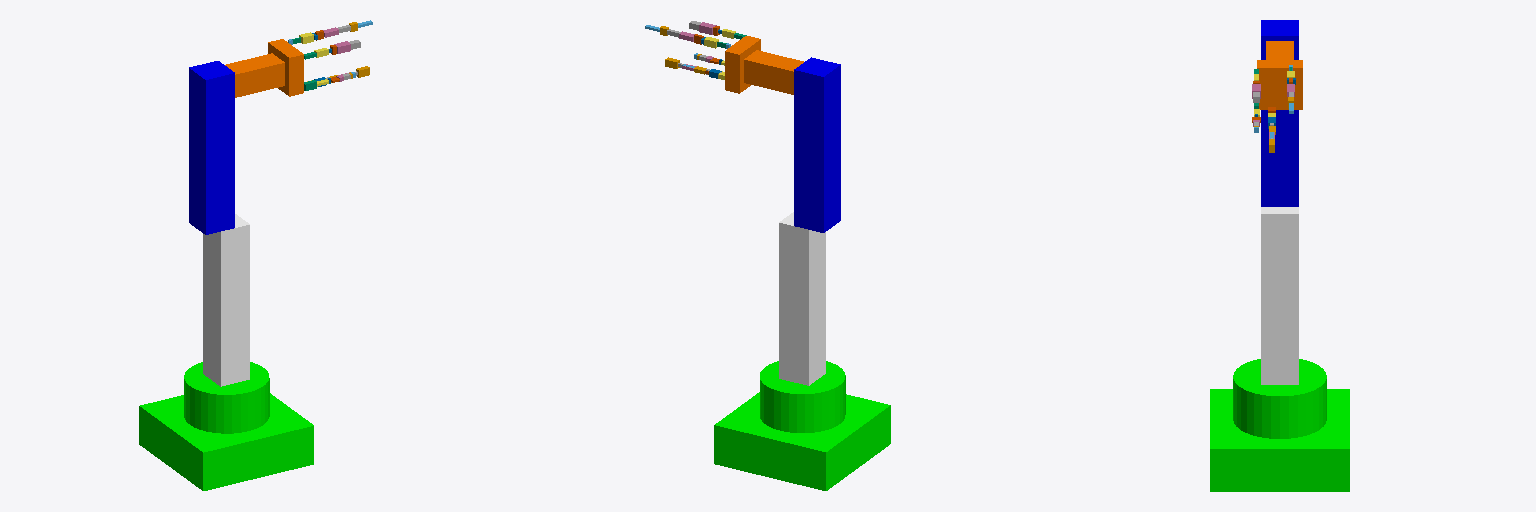
--- Facts derived from the render (not from the file) ---
3 views of the same robot in one strip: view 1: azimuth 30°, elevation 25°; view 2: azimuth 150°, elevation 25°; view 3: azimuth 270°, elevation 25° (orthographic).
Model robot with 40 links and 39 joints (36 revolute, 1 continuous, 2 fixed), rooted at base_link, posed every joint at zero.
Links seen in each view (by area): view 1: base_link, arm_link, support_link, wrist_link, palm_link; view 2: base_link, arm_link, support_link, wrist_link, palm_link; view 3: base_link, support_link, arm_link, palm_link, wrist_link.
Link boxes in pixels (bbox=[...]): base_link: bbox=[139, 362, 313, 490]; arm_link: bbox=[189, 61, 234, 234]; support_link: bbox=[203, 214, 249, 386]; wrist_link: bbox=[225, 53, 284, 97]; palm_link: bbox=[268, 39, 303, 96]; base_link: bbox=[714, 361, 890, 490]; arm_link: bbox=[794, 57, 840, 232]; support_link: bbox=[779, 212, 825, 385]; wrist_link: bbox=[744, 50, 803, 94]; palm_link: bbox=[725, 36, 760, 93]; base_link: bbox=[1210, 359, 1349, 491]; support_link: bbox=[1261, 207, 1298, 384]; arm_link: bbox=[1261, 20, 1298, 206]; palm_link: bbox=[1257, 60, 1302, 109]; wrist_link: bbox=[1266, 41, 1293, 59].
Size in the robot's own frame: 1.39 by 0.75 by 2.55 metres.
Geometry: primitives only (box / cylinder / sphere), no mesh files.

The robot description file, URDF, robot "robot":
<?xml version='1.0' encoding='utf-8'?>
<robot name="robot">
  <link name="base_link">
    <visual>
      <origin xyz="0 0 0.125" rpy="0 0 0" />
      <geometry>
        <box size="0.75 0.75 0.25" />
      </geometry>
      <material name="green" />
    </visual>
    <visual>
      <origin xyz="0 0 0.375" rpy="0 0 0" />
      <geometry>
        <cylinder length="0.25" radius="0.25" />
      </geometry>
      <material name="green">
        <color rgba="0 1 0 1" />
      </material>
    </visual>
    <collision>
      <geometry>
        <box size="0.75 0.75 0.5" />
      </geometry>
    </collision>
    <inertial>
      <mass value="0.5" />
      <inertia ixx="0.034" ixy="0.0" ixz="0.0" iyy="0.034" iyz="0.0" izz="0.034" />
    </inertial>
  </link>
  <link name="support_link">
    <visual>
      <origin xyz="0 0 0.5" rpy="0 0 0" />
      <geometry>
        <box size="0.2 0.2 1" />
      </geometry>
      <material name="white">
        <color rgba="1 1 1 1" />
      </material>
    </visual>
    <collision>
      <geometry>
        <box size="0.2 0.2 1" />
      </geometry>
    </collision>
    <inertial>
      <mass value="0.1" />
      <inertia ixx="0.01" ixy="0.0" ixz="0.0" iyy="0.01" iyz="0.0" izz="0.01" />
    </inertial>
  </link>
  <joint name="support_joint" type="continuous">
    <origin xyz="0 0 0.5" rpy="0 0 0" />
    <parent link="base_link" />
    <child link="support_link" />
    <axis xyz="0 0 1" />
  </joint>
  <link name="arm_link">
    <visual>
      <origin xyz="0 0 0.5" rpy="0 0 0" />
      <geometry>
        <box size="0.2 0.2 1" />
      </geometry>
      <material name="blue">
        <color rgba="0 0 1 1" />
      </material>
    </visual>
    <collision>
      <geometry>
        <box size="0.2 0.2 1" />
      </geometry>
    </collision>
    <inertial>
      <mass value="0.1" />
      <inertia ixx="0.01" ixy="0.0" ixz="0.0" iyy="0.01" iyz="0.0" izz="0.01" />
    </inertial>
  </link>
  <joint name="arm_joint" type="revolute">
    <origin xyz="-0.1 0 1" rpy="0 0 0" />
    <parent link="support_link" />
    <child link="arm_link" />
    <axis xyz="0 1 0" />
    <limit lower="-3.14" upper="3.14" effort="1.0" velocity="1.0" />
  </joint>
  <link name="wrist_link">
    <visual>
      <origin xyz="0 0 0.25" rpy="0 0 0" />
      <geometry>
        <box size="0.15 0.15 0.5" />
      </geometry>
      <material name="orange">
        <color rgba="1 0.5 0 1" />
      </material>
    </visual>
    <collision>
      <geometry>
        <box size="0.15 0.15 0.5" />
      </geometry>
    </collision>
    <inertial>
      <mass value="0.1" />
      <inertia ixx="0.01" ixy="0.0" ixz="0.0" iyy="0.01" iyz="0.0" izz="0.01" />
    </inertial>
  </link>
  <joint name="wrist_joint" type="fixed">
    <origin xyz="0 0 0.9" rpy="0 1.571 0" />
    <parent link="arm_link" />
    <child link="wrist_link" />
  </joint>
  <link name="palm_link">
    <visual>
      <origin xyz="0 0 0.05" rpy="0 0 0" />
      <geometry>
        <box size="0.25 0.25 0.1" />
      </geometry>
      <material name="orange" />
    </visual>
    <collision>
      <geometry>
        <box size="0.25 0.25 0.1" />
      </geometry>
    </collision>
    <inertial>
      <mass value="0.1" />
      <inertia ixx="0.01" ixy="0.0" ixz="0.0" iyy="0.01" iyz="0.0" izz="0.01" />
    </inertial>
  </link>
  <joint name="palm_joint" type="fixed">
    <origin xyz="0 0 0.45" rpy="0 0 0" />
    <parent link="wrist_link" />
    <child link="palm_link" />
  </joint>
  <link name="finger_link_0_0">
    <visual>
      <origin xyz="0 0 0.0295" rpy="0 0 0" />
      <geometry>
        <box size="0.042 0.042 0.059" />
      </geometry>
    </visual>
    <collision>
      <geometry>
        <box size="0.042 0.042 0.059" />
      </geometry>
    </collision>
    <inertial>
      <mass value="0.031" />
      <inertia ixx="0.0" iyy="0.0" izz="0.0" ixy="0" ixz="0" iyz="0" />
    </inertial>
  </link>
  <joint name="finger_joint_palm_link_to_finger_link_0_0" type="revolute">
    <origin xyz="0.125 -0.042 0.1" rpy="0 0 0" />
    <parent link="palm_link" />
    <child link="finger_link_0_0" />
    <axis xyz="0.0 1.0 0.0" />
    <limit lower="-3.142" upper="3.142" effort="10" velocity="10" />
  </joint>
  <link name="finger_link_0_1">
    <visual>
      <origin xyz="0 0 0.031" rpy="0 0 0" />
      <geometry>
        <box size="0.017 0.038 0.062" />
      </geometry>
    </visual>
    <collision>
      <geometry>
        <box size="0.017 0.038 0.062" />
      </geometry>
    </collision>
    <inertial>
      <mass value="0.012" />
      <inertia ixx="0.0" iyy="0.0" izz="0.0" ixy="0" ixz="0" iyz="0" />
    </inertial>
  </link>
  <joint name="finger_joint_finger_link_0_0_to_finger_link_0_1" type="revolute">
    <origin xyz="0.0 0.0 0.059" rpy="0 0 0" />
    <parent link="finger_link_0_0" />
    <child link="finger_link_0_1" />
    <axis xyz="0.0 1.0 0.0" />
    <limit lower="-3.142" upper="3.142" effort="10" velocity="10" />
  </joint>
  <link name="finger_link_0_2">
    <visual>
      <origin xyz="0 0 0.049" rpy="0 0 0" />
      <geometry>
        <box size="0.03 0.018 0.098" />
      </geometry>
    </visual>
    <collision>
      <geometry>
        <box size="0.03 0.018 0.098" />
      </geometry>
    </collision>
    <inertial>
      <mass value="0.016" />
      <inertia ixx="0.0" iyy="0.0" izz="0.0" ixy="0" ixz="0" iyz="0" />
    </inertial>
  </link>
  <joint name="finger_joint_finger_link_0_1_to_finger_link_0_2" type="revolute">
    <origin xyz="0.0 0.0 0.062" rpy="0 0 0" />
    <parent link="finger_link_0_1" />
    <child link="finger_link_0_2" />
    <axis xyz="1.0 0.0 0.0" />
    <limit lower="-3.142" upper="3.142" effort="10" velocity="10" />
  </joint>
  <link name="finger_link_0_3">
    <visual>
      <origin xyz="0 0 0.036" rpy="0 0 0" />
      <geometry>
        <box size="0.023 0.038 0.072" />
      </geometry>
    </visual>
    <collision>
      <geometry>
        <box size="0.023 0.038 0.072" />
      </geometry>
    </collision>
    <inertial>
      <mass value="0.019" />
      <inertia ixx="0.0" iyy="0.0" izz="0.0" ixy="0" ixz="0" iyz="0" />
    </inertial>
  </link>
  <joint name="finger_joint_finger_link_0_2_to_finger_link_0_3" type="revolute">
    <origin xyz="0.0 0.0 0.098" rpy="0 0 0" />
    <parent link="finger_link_0_2" />
    <child link="finger_link_0_3" />
    <axis xyz="1.0 0.0 0.0" />
    <limit lower="-3.142" upper="3.142" effort="10" velocity="10" />
  </joint>
  <link name="finger_link_0_4">
    <visual>
      <origin xyz="0 0 0.0425" rpy="0 0 0" />
      <geometry>
        <box size="0.018 0.022 0.085" />
      </geometry>
    </visual>
    <collision>
      <geometry>
        <box size="0.018 0.022 0.085" />
      </geometry>
    </collision>
    <inertial>
      <mass value="0.01" />
      <inertia ixx="0.0" iyy="0.0" izz="0.0" ixy="0" ixz="0" iyz="0" />
    </inertial>
  </link>
  <joint name="finger_joint_finger_link_0_3_to_finger_link_0_4" type="revolute">
    <origin xyz="0.0 0.0 0.072" rpy="0 0 0" />
    <parent link="finger_link_0_3" />
    <child link="finger_link_0_4" />
    <axis xyz="1.0 0.0 0.0" />
    <limit lower="-3.142" upper="3.142" effort="10" velocity="10" />
  </joint>
  <link name="finger_link_1_0">
    <visual>
      <origin xyz="0 0 0.04" rpy="0 0 0" />
      <geometry>
        <box size="0.044 0.03 0.08" />
      </geometry>
    </visual>
    <collision>
      <geometry>
        <box size="0.044 0.03 0.08" />
      </geometry>
    </collision>
    <inertial>
      <mass value="0.032" />
      <inertia ixx="0.0" iyy="0.0" izz="0.0" ixy="0" ixz="0" iyz="0" />
    </inertial>
  </link>
  <joint name="finger_joint_palm_link_to_finger_link_1_0" type="revolute">
    <origin xyz="0.086 -0.125 0.1" rpy="0 0 0" />
    <parent link="palm_link" />
    <child link="finger_link_1_0" />
    <axis xyz="1.0 0.0 0.0" />
    <limit lower="-3.142" upper="3.142" effort="10" velocity="10" />
  </joint>
  <link name="finger_link_1_1">
    <visual>
      <origin xyz="0 0 0.0405" rpy="0 0 0" />
      <geometry>
        <box size="0.016 0.032 0.081" />
      </geometry>
    </visual>
    <collision>
      <geometry>
        <box size="0.016 0.032 0.081" />
      </geometry>
    </collision>
    <inertial>
      <mass value="0.012" />
      <inertia ixx="0.0" iyy="0.0" izz="0.0" ixy="0" ixz="0" iyz="0" />
    </inertial>
  </link>
  <joint name="finger_joint_finger_link_1_0_to_finger_link_1_1" type="revolute">
    <origin xyz="0.0 0.0 0.08" rpy="0 0 0" />
    <parent link="finger_link_1_0" />
    <child link="finger_link_1_1" />
    <axis xyz="0.0 1.0 0.0" />
    <limit lower="-3.142" upper="3.142" effort="10" velocity="10" />
  </joint>
  <link name="finger_link_1_2">
    <visual>
      <origin xyz="0 0 0.0085" rpy="0 0 0" />
      <geometry>
        <box size="0.031 0.011 0.017" />
      </geometry>
    </visual>
    <collision>
      <geometry>
        <box size="0.031 0.011 0.017" />
      </geometry>
    </collision>
    <inertial>
      <mass value="0.002" />
      <inertia ixx="0.0" iyy="0.0" izz="0.0" ixy="0" ixz="0" iyz="0" />
    </inertial>
  </link>
  <joint name="finger_joint_finger_link_1_1_to_finger_link_1_2" type="revolute">
    <origin xyz="0.0 0.0 0.081" rpy="0 0 0" />
    <parent link="finger_link_1_1" />
    <child link="finger_link_1_2" />
    <axis xyz="0.0 1.0 0.0" />
    <limit lower="-3.142" upper="3.142" effort="10" velocity="10" />
  </joint>
  <link name="finger_link_1_3">
    <visual>
      <origin xyz="0 0 0.025" rpy="0 0 0" />
      <geometry>
        <box size="0.012 0.046 0.05" />
      </geometry>
    </visual>
    <collision>
      <geometry>
        <box size="0.012 0.046 0.05" />
      </geometry>
    </collision>
    <inertial>
      <mass value="0.008" />
      <inertia ixx="0.0" iyy="0.0" izz="0.0" ixy="0" ixz="0" iyz="0" />
    </inertial>
  </link>
  <joint name="finger_joint_finger_link_1_2_to_finger_link_1_3" type="revolute">
    <origin xyz="0.0 0.0 0.017" rpy="0 0 0" />
    <parent link="finger_link_1_2" />
    <child link="finger_link_1_3" />
    <axis xyz="0.0 1.0 0.0" />
    <limit lower="-3.142" upper="3.142" effort="10" velocity="10" />
  </joint>
  <link name="finger_link_1_4">
    <visual>
      <origin xyz="0 0 0.0165" rpy="0 0 0" />
      <geometry>
        <box size="0.025 0.037 0.033" />
      </geometry>
    </visual>
    <collision>
      <geometry>
        <box size="0.025 0.037 0.033" />
      </geometry>
    </collision>
    <inertial>
      <mass value="0.009" />
      <inertia ixx="0.0" iyy="0.0" izz="0.0" ixy="0" ixz="0" iyz="0" />
    </inertial>
  </link>
  <joint name="finger_joint_finger_link_1_3_to_finger_link_1_4" type="revolute">
    <origin xyz="0.0 0.0 0.05" rpy="0 0 0" />
    <parent link="finger_link_1_3" />
    <child link="finger_link_1_4" />
    <axis xyz="0.0 1.0 0.0" />
    <limit lower="-3.142" upper="3.142" effort="10" velocity="10" />
  </joint>
  <link name="finger_link_1_5">
    <visual>
      <origin xyz="0 0 0.0225" rpy="0 0 0" />
      <geometry>
        <box size="0.024 0.029 0.045" />
      </geometry>
    </visual>
    <collision>
      <geometry>
        <box size="0.024 0.029 0.045" />
      </geometry>
    </collision>
    <inertial>
      <mass value="0.009" />
      <inertia ixx="0.0" iyy="0.0" izz="0.0" ixy="0" ixz="0" iyz="0" />
    </inertial>
  </link>
  <joint name="finger_joint_finger_link_1_4_to_finger_link_1_5" type="revolute">
    <origin xyz="0.0 0.0 0.033" rpy="0 0 0" />
    <parent link="finger_link_1_4" />
    <child link="finger_link_1_5" />
    <axis xyz="1.0 0.0 0.0" />
    <limit lower="-3.142" upper="3.142" effort="10" velocity="10" />
  </joint>
  <link name="finger_link_1_6">
    <visual>
      <origin xyz="0 0 0.008" rpy="0 0 0" />
      <geometry>
        <box size="0.028 0.03 0.016" />
      </geometry>
    </visual>
    <collision>
      <geometry>
        <box size="0.028 0.03 0.016" />
      </geometry>
    </collision>
    <inertial>
      <mass value="0.004" />
      <inertia ixx="0.0" iyy="0.0" izz="0.0" ixy="0" ixz="0" iyz="0" />
    </inertial>
  </link>
  <joint name="finger_joint_finger_link_1_5_to_finger_link_1_6" type="revolute">
    <origin xyz="0.0 0.0 0.045" rpy="0 0 0" />
    <parent link="finger_link_1_5" />
    <child link="finger_link_1_6" />
    <axis xyz="0.0 1.0 0.0" />
    <limit lower="-3.142" upper="3.142" effort="10" velocity="10" />
  </joint>
  <link name="finger_link_1_7">
    <visual>
      <origin xyz="0 0 0.0095" rpy="0 0 0" />
      <geometry>
        <box size="0.028 0.025 0.019" />
      </geometry>
    </visual>
    <collision>
      <geometry>
        <box size="0.028 0.025 0.019" />
      </geometry>
    </collision>
    <inertial>
      <mass value="0.004" />
      <inertia ixx="0.0" iyy="0.0" izz="0.0" ixy="0" ixz="0" iyz="0" />
    </inertial>
  </link>
  <joint name="finger_joint_finger_link_1_6_to_finger_link_1_7" type="revolute">
    <origin xyz="0.0 0.0 0.016" rpy="0 0 0" />
    <parent link="finger_link_1_6" />
    <child link="finger_link_1_7" />
    <axis xyz="0.0 1.0 0.0" />
    <limit lower="-3.142" upper="3.142" effort="10" velocity="10" />
  </joint>
  <link name="finger_link_2_0">
    <visual>
      <origin xyz="0 0 0.0155" rpy="0 0 0" />
      <geometry>
        <box size="0.035 0.027 0.031" />
      </geometry>
    </visual>
    <collision>
      <geometry>
        <box size="0.035 0.027 0.031" />
      </geometry>
    </collision>
    <inertial>
      <mass value="0.009" />
      <inertia ixx="0.0" iyy="0.0" izz="0.0" ixy="0" ixz="0" iyz="0" />
    </inertial>
  </link>
  <joint name="finger_joint_palm_link_to_finger_link_2_0" type="revolute">
    <origin xyz="0.125 -0.043 0.1" rpy="0 0 0" />
    <parent link="palm_link" />
    <child link="finger_link_2_0" />
    <axis xyz="1.0 0.0 0.0" />
    <limit lower="-3.142" upper="3.142" effort="10" velocity="10" />
  </joint>
  <link name="finger_link_2_1">
    <visual>
      <origin xyz="0 0 0.0485" rpy="0 0 0" />
      <geometry>
        <box size="0.029 0.047 0.097" />
      </geometry>
    </visual>
    <collision>
      <geometry>
        <box size="0.029 0.047 0.097" />
      </geometry>
    </collision>
    <inertial>
      <mass value="0.04" />
      <inertia ixx="0.0" iyy="0.0" izz="0.0" ixy="0" ixz="0" iyz="0" />
    </inertial>
  </link>
  <joint name="finger_joint_finger_link_2_0_to_finger_link_2_1" type="revolute">
    <origin xyz="0.0 0.0 0.031" rpy="0 0 0" />
    <parent link="finger_link_2_0" />
    <child link="finger_link_2_1" />
    <axis xyz="0.0 1.0 0.0" />
    <limit lower="-3.142" upper="3.142" effort="10" velocity="10" />
  </joint>
  <link name="finger_link_2_2">
    <visual>
      <origin xyz="0 0 0.032" rpy="0 0 0" />
      <geometry>
        <box size="0.036 0.042 0.064" />
      </geometry>
    </visual>
    <collision>
      <geometry>
        <box size="0.036 0.042 0.064" />
      </geometry>
    </collision>
    <inertial>
      <mass value="0.029" />
      <inertia ixx="0.0" iyy="0.0" izz="0.0" ixy="0" ixz="0" iyz="0" />
    </inertial>
  </link>
  <joint name="finger_joint_finger_link_2_1_to_finger_link_2_2" type="revolute">
    <origin xyz="0.0 0.0 0.097" rpy="0 0 0" />
    <parent link="finger_link_2_1" />
    <child link="finger_link_2_2" />
    <axis xyz="1.0 0.0 0.0" />
    <limit lower="-3.142" upper="3.142" effort="10" velocity="10" />
  </joint>
  <link name="finger_link_2_3">
    <visual>
      <origin xyz="0 0 0.0465" rpy="0 0 0" />
      <geometry>
        <box size="0.02 0.022 0.093" />
      </geometry>
    </visual>
    <collision>
      <geometry>
        <box size="0.02 0.022 0.093" />
      </geometry>
    </collision>
    <inertial>
      <mass value="0.012" />
      <inertia ixx="0.0" iyy="0.0" izz="0.0" ixy="0" ixz="0" iyz="0" />
    </inertial>
  </link>
  <joint name="finger_joint_finger_link_2_2_to_finger_link_2_3" type="revolute">
    <origin xyz="0.0 0.0 0.064" rpy="0 0 0" />
    <parent link="finger_link_2_2" />
    <child link="finger_link_2_3" />
    <axis xyz="1.0 0.0 0.0" />
    <limit lower="-3.142" upper="3.142" effort="10" velocity="10" />
  </joint>
  <link name="finger_link_2_4">
    <visual>
      <origin xyz="0 0 0.044" rpy="0 0 0" />
      <geometry>
        <box size="0.017 0.035 0.088" />
      </geometry>
    </visual>
    <collision>
      <geometry>
        <box size="0.017 0.035 0.088" />
      </geometry>
    </collision>
    <inertial>
      <mass value="0.016" />
      <inertia ixx="0.0" iyy="0.0" izz="0.0" ixy="0" ixz="0" iyz="0" />
    </inertial>
  </link>
  <joint name="finger_joint_finger_link_2_3_to_finger_link_2_4" type="revolute">
    <origin xyz="0.0 0.0 0.093" rpy="0 0 0" />
    <parent link="finger_link_2_3" />
    <child link="finger_link_2_4" />
    <axis xyz="1.0 0.0 0.0" />
    <limit lower="-3.142" upper="3.142" effort="10" velocity="10" />
  </joint>
  <link name="finger_link_2_5">
    <visual>
      <origin xyz="0 0 0.017" rpy="0 0 0" />
      <geometry>
        <box size="0.02 0.014 0.034" />
      </geometry>
    </visual>
    <collision>
      <geometry>
        <box size="0.02 0.014 0.034" />
      </geometry>
    </collision>
    <inertial>
      <mass value="0.003" />
      <inertia ixx="0.0" iyy="0.0" izz="0.0" ixy="0" ixz="0" iyz="0" />
    </inertial>
  </link>
  <joint name="finger_joint_finger_link_2_4_to_finger_link_2_5" type="revolute">
    <origin xyz="0.0 0.0 0.088" rpy="0 0 0" />
    <parent link="finger_link_2_4" />
    <child link="finger_link_2_5" />
    <axis xyz="0.0 1.0 0.0" />
    <limit lower="-3.142" upper="3.142" effort="10" velocity="10" />
  </joint>
  <link name="finger_link_2_6">
    <visual>
      <origin xyz="0 0 0.0385" rpy="0 0 0" />
      <geometry>
        <box size="0.046 0.034 0.077" />
      </geometry>
    </visual>
    <collision>
      <geometry>
        <box size="0.046 0.034 0.077" />
      </geometry>
    </collision>
    <inertial>
      <mass value="0.036" />
      <inertia ixx="0.0" iyy="0.0" izz="0.0" ixy="0" ixz="0" iyz="0" />
    </inertial>
  </link>
  <joint name="finger_joint_finger_link_2_5_to_finger_link_2_6" type="revolute">
    <origin xyz="0.0 0.0 0.034" rpy="0 0 0" />
    <parent link="finger_link_2_5" />
    <child link="finger_link_2_6" />
    <axis xyz="0.0 1.0 0.0" />
    <limit lower="-3.142" upper="3.142" effort="10" velocity="10" />
  </joint>
  <link name="finger_link_3_0">
    <visual>
      <origin xyz="0 0 0.012" rpy="0 0 0" />
      <geometry>
        <box size="0.031 0.02 0.024" />
      </geometry>
    </visual>
    <collision>
      <geometry>
        <box size="0.031 0.02 0.024" />
      </geometry>
    </collision>
    <inertial>
      <mass value="0.004" />
      <inertia ixx="0.0" iyy="0.0" izz="0.0" ixy="0" ixz="0" iyz="0" />
    </inertial>
  </link>
  <joint name="finger_joint_palm_link_to_finger_link_3_0" type="revolute">
    <origin xyz="-0.125 0.06 0.1" rpy="0 0 0" />
    <parent link="palm_link" />
    <child link="finger_link_3_0" />
    <axis xyz="1.0 0.0 0.0" />
    <limit lower="-3.142" upper="3.142" effort="10" velocity="10" />
  </joint>
  <link name="finger_link_3_1">
    <visual>
      <origin xyz="0 0 0.0305" rpy="0 0 0" />
      <geometry>
        <box size="0.029 0.011 0.061" />
      </geometry>
    </visual>
    <collision>
      <geometry>
        <box size="0.029 0.011 0.061" />
      </geometry>
    </collision>
    <inertial>
      <mass value="0.006" />
      <inertia ixx="0.0" iyy="0.0" izz="0.0" ixy="0" ixz="0" iyz="0" />
    </inertial>
  </link>
  <joint name="finger_joint_finger_link_3_0_to_finger_link_3_1" type="revolute">
    <origin xyz="0.0 0.0 0.024" rpy="0 0 0" />
    <parent link="finger_link_3_0" />
    <child link="finger_link_3_1" />
    <axis xyz="1.0 0.0 0.0" />
    <limit lower="-3.142" upper="3.142" effort="10" velocity="10" />
  </joint>
  <link name="finger_link_3_2">
    <visual>
      <origin xyz="0 0 0.039" rpy="0 0 0" />
      <geometry>
        <box size="0.043 0.043 0.078" />
      </geometry>
    </visual>
    <collision>
      <geometry>
        <box size="0.043 0.043 0.078" />
      </geometry>
    </collision>
    <inertial>
      <mass value="0.043" />
      <inertia ixx="0.0" iyy="0.0" izz="0.0" ixy="0" ixz="0" iyz="0" />
    </inertial>
  </link>
  <joint name="finger_joint_finger_link_3_1_to_finger_link_3_2" type="revolute">
    <origin xyz="0.0 0.0 0.061" rpy="0 0 0" />
    <parent link="finger_link_3_1" />
    <child link="finger_link_3_2" />
    <axis xyz="1.0 0.0 0.0" />
    <limit lower="-3.142" upper="3.142" effort="10" velocity="10" />
  </joint>
  <link name="finger_link_3_3">
    <visual>
      <origin xyz="0 0 0.0105" rpy="0 0 0" />
      <geometry>
        <box size="0.027 0.047 0.021" />
      </geometry>
    </visual>
    <collision>
      <geometry>
        <box size="0.027 0.047 0.021" />
      </geometry>
    </collision>
    <inertial>
      <mass value="0.008" />
      <inertia ixx="0.0" iyy="0.0" izz="0.0" ixy="0" ixz="0" iyz="0" />
    </inertial>
  </link>
  <joint name="finger_joint_finger_link_3_2_to_finger_link_3_3" type="revolute">
    <origin xyz="0.0 0.0 0.078" rpy="0 0 0" />
    <parent link="finger_link_3_2" />
    <child link="finger_link_3_3" />
    <axis xyz="0.0 1.0 0.0" />
    <limit lower="-3.142" upper="3.142" effort="10" velocity="10" />
  </joint>
  <link name="finger_link_3_4">
    <visual>
      <origin xyz="0 0 0.026" rpy="0 0 0" />
      <geometry>
        <box size="0.049 0.021 0.052" />
      </geometry>
    </visual>
    <collision>
      <geometry>
        <box size="0.049 0.021 0.052" />
      </geometry>
    </collision>
    <inertial>
      <mass value="0.016" />
      <inertia ixx="0.0" iyy="0.0" izz="0.0" ixy="0" ixz="0" iyz="0" />
    </inertial>
  </link>
  <joint name="finger_joint_finger_link_3_3_to_finger_link_3_4" type="revolute">
    <origin xyz="0.0 0.0 0.021" rpy="0 0 0" />
    <parent link="finger_link_3_3" />
    <child link="finger_link_3_4" />
    <axis xyz="0.0 1.0 0.0" />
    <limit lower="-3.142" upper="3.142" effort="10" velocity="10" />
  </joint>
  <link name="finger_link_3_5">
    <visual>
      <origin xyz="0 0 0.048" rpy="0 0 0" />
      <geometry>
        <box size="0.029 0.042 0.096" />
      </geometry>
    </visual>
    <collision>
      <geometry>
        <box size="0.029 0.042 0.096" />
      </geometry>
    </collision>
    <inertial>
      <mass value="0.035" />
      <inertia ixx="0.0" iyy="0.0" izz="0.0" ixy="0" ixz="0" iyz="0" />
    </inertial>
  </link>
  <joint name="finger_joint_finger_link_3_4_to_finger_link_3_5" type="revolute">
    <origin xyz="0.0 0.0 0.052" rpy="0 0 0" />
    <parent link="finger_link_3_4" />
    <child link="finger_link_3_5" />
    <axis xyz="1.0 0.0 0.0" />
    <limit lower="-3.142" upper="3.142" effort="10" velocity="10" />
  </joint>
  <link name="finger_link_3_6">
    <visual>
      <origin xyz="0 0 0.042" rpy="0 0 0" />
      <geometry>
        <box size="0.027 0.025 0.084" />
      </geometry>
    </visual>
    <collision>
      <geometry>
        <box size="0.027 0.025 0.084" />
      </geometry>
    </collision>
    <inertial>
      <mass value="0.017" />
      <inertia ixx="0.0" iyy="0.0" izz="0.0" ixy="0" ixz="0" iyz="0" />
    </inertial>
  </link>
  <joint name="finger_joint_finger_link_3_5_to_finger_link_3_6" type="revolute">
    <origin xyz="0.0 0.0 0.096" rpy="0 0 0" />
    <parent link="finger_link_3_5" />
    <child link="finger_link_3_6" />
    <axis xyz="0.0 1.0 0.0" />
    <limit lower="-3.142" upper="3.142" effort="10" velocity="10" />
  </joint>
  <link name="finger_link_3_7">
    <visual>
      <origin xyz="0 0 0.024" rpy="0 0 0" />
      <geometry>
        <box size="0.046 0.031 0.048" />
      </geometry>
    </visual>
    <collision>
      <geometry>
        <box size="0.046 0.031 0.048" />
      </geometry>
    </collision>
    <inertial>
      <mass value="0.021" />
      <inertia ixx="0.0" iyy="0.0" izz="0.0" ixy="0" ixz="0" iyz="0" />
    </inertial>
  </link>
  <joint name="finger_joint_finger_link_3_6_to_finger_link_3_7" type="revolute">
    <origin xyz="0.0 0.0 0.084" rpy="0 0 0" />
    <parent link="finger_link_3_6" />
    <child link="finger_link_3_7" />
    <axis xyz="1.0 0.0 0.0" />
    <limit lower="-3.142" upper="3.142" effort="10" velocity="10" />
  </joint>
  <link name="finger_link_3_8">
    <visual>
      <origin xyz="0 0 0.049" rpy="0 0 0" />
      <geometry>
        <box size="0.015 0.027 0.098" />
      </geometry>
    </visual>
    <collision>
      <geometry>
        <box size="0.015 0.027 0.098" />
      </geometry>
    </collision>
    <inertial>
      <mass value="0.012" />
      <inertia ixx="0.0" iyy="0.0" izz="0.0" ixy="0" ixz="0" iyz="0" />
    </inertial>
  </link>
  <joint name="finger_joint_finger_link_3_7_to_finger_link_3_8" type="revolute">
    <origin xyz="0.0 0.0 0.048" rpy="0 0 0" />
    <parent link="finger_link_3_7" />
    <child link="finger_link_3_8" />
    <axis xyz="0.0 1.0 0.0" />
    <limit lower="-3.142" upper="3.142" effort="10" velocity="10" />
  </joint>
  <link name="finger_link_4_0">
    <visual>
      <origin xyz="0 0 0.038" rpy="0 0 0" />
      <geometry>
        <box size="0.022 0.027 0.076" />
      </geometry>
    </visual>
    <collision>
      <geometry>
        <box size="0.022 0.027 0.076" />
      </geometry>
    </collision>
    <inertial>
      <mass value="0.014" />
      <inertia ixx="0.0" iyy="0.0" izz="0.0" ixy="0" ixz="0" iyz="0" />
    </inertial>
  </link>
  <joint name="finger_joint_palm_link_to_finger_link_4_0" type="revolute">
    <origin xyz="-0.108 -0.125 0.1" rpy="0 0 0" />
    <parent link="palm_link" />
    <child link="finger_link_4_0" />
    <axis xyz="0.0 1.0 0.0" />
    <limit lower="-3.142" upper="3.142" effort="10" velocity="10" />
  </joint>
  <link name="finger_link_4_1">
    <visual>
      <origin xyz="0 0 0.04" rpy="0 0 0" />
      <geometry>
        <box size="0.038 0.028 0.08" />
      </geometry>
    </visual>
    <collision>
      <geometry>
        <box size="0.038 0.028 0.08" />
      </geometry>
    </collision>
    <inertial>
      <mass value="0.026" />
      <inertia ixx="0.0" iyy="0.0" izz="0.0" ixy="0" ixz="0" iyz="0" />
    </inertial>
  </link>
  <joint name="finger_joint_finger_link_4_0_to_finger_link_4_1" type="revolute">
    <origin xyz="0.0 0.0 0.076" rpy="0 0 0" />
    <parent link="finger_link_4_0" />
    <child link="finger_link_4_1" />
    <axis xyz="1.0 0.0 0.0" />
    <limit lower="-3.142" upper="3.142" effort="10" velocity="10" />
  </joint>
  <link name="finger_link_4_2">
    <visual>
      <origin xyz="0 0 0.014" rpy="0 0 0" />
      <geometry>
        <box size="0.018 0.018 0.028" />
      </geometry>
    </visual>
    <collision>
      <geometry>
        <box size="0.018 0.018 0.028" />
      </geometry>
    </collision>
    <inertial>
      <mass value="0.003" />
      <inertia ixx="0.0" iyy="0.0" izz="0.0" ixy="0" ixz="0" iyz="0" />
    </inertial>
  </link>
  <joint name="finger_joint_finger_link_4_1_to_finger_link_4_2" type="revolute">
    <origin xyz="0.0 0.0 0.08" rpy="0 0 0" />
    <parent link="finger_link_4_1" />
    <child link="finger_link_4_2" />
    <axis xyz="1.0 0.0 0.0" />
    <limit lower="-3.142" upper="3.142" effort="10" velocity="10" />
  </joint>
  <link name="finger_link_4_3">
    <visual>
      <origin xyz="0 0 0.014" rpy="0 0 0" />
      <geometry>
        <box size="0.049 0.033 0.028" />
      </geometry>
    </visual>
    <collision>
      <geometry>
        <box size="0.049 0.033 0.028" />
      </geometry>
    </collision>
    <inertial>
      <mass value="0.014" />
      <inertia ixx="0.0" iyy="0.0" izz="0.0" ixy="0" ixz="0" iyz="0" />
    </inertial>
  </link>
  <joint name="finger_joint_finger_link_4_2_to_finger_link_4_3" type="revolute">
    <origin xyz="0.0 0.0 0.028" rpy="0 0 0" />
    <parent link="finger_link_4_2" />
    <child link="finger_link_4_3" />
    <axis xyz="1.0 0.0 0.0" />
    <limit lower="-3.142" upper="3.142" effort="10" velocity="10" />
  </joint>
  <link name="finger_link_4_4">
    <visual>
      <origin xyz="0 0 0.0455" rpy="0 0 0" />
      <geometry>
        <box size="0.045 0.049 0.091" />
      </geometry>
    </visual>
    <collision>
      <geometry>
        <box size="0.045 0.049 0.091" />
      </geometry>
    </collision>
    <inertial>
      <mass value="0.06" />
      <inertia ixx="0.0" iyy="0.0" izz="0.0" ixy="0" ixz="0" iyz="0" />
    </inertial>
  </link>
  <joint name="finger_joint_finger_link_4_3_to_finger_link_4_4" type="revolute">
    <origin xyz="0.0 0.0 0.028" rpy="0 0 0" />
    <parent link="finger_link_4_3" />
    <child link="finger_link_4_4" />
    <axis xyz="0.0 1.0 0.0" />
    <limit lower="-3.142" upper="3.142" effort="10" velocity="10" />
  </joint>
  <link name="finger_link_4_5">
    <visual>
      <origin xyz="0 0 0.034" rpy="0 0 0" />
      <geometry>
        <box size="0.037 0.038 0.068" />
      </geometry>
    </visual>
    <collision>
      <geometry>
        <box size="0.037 0.038 0.068" />
      </geometry>
    </collision>
    <inertial>
      <mass value="0.029" />
      <inertia ixx="0.0" iyy="0.0" izz="0.0" ixy="0" ixz="0" iyz="0" />
    </inertial>
  </link>
  <joint name="finger_joint_finger_link_4_4_to_finger_link_4_5" type="revolute">
    <origin xyz="0.0 0.0 0.091" rpy="0 0 0" />
    <parent link="finger_link_4_4" />
    <child link="finger_link_4_5" />
    <axis xyz="1.0 0.0 0.0" />
    <limit lower="-3.142" upper="3.142" effort="10" velocity="10" />
  </joint>
</robot>
